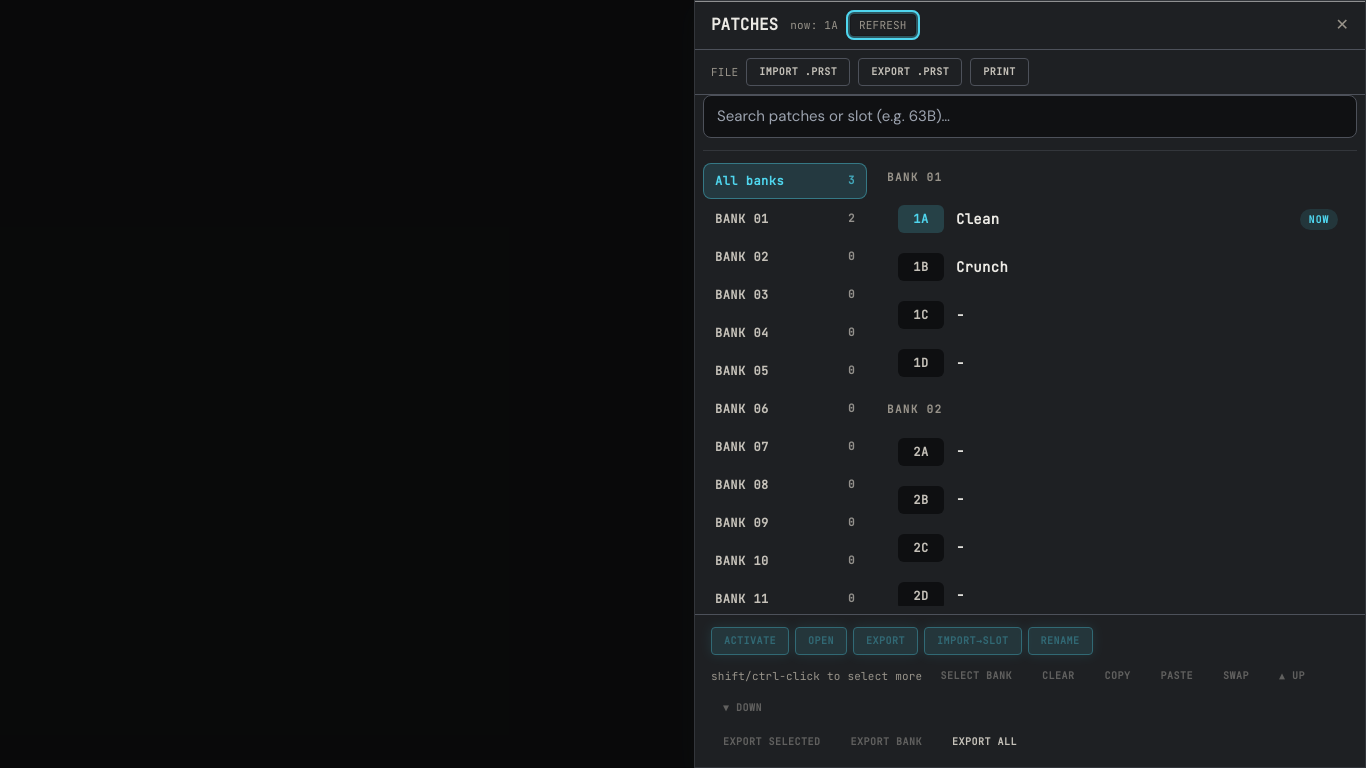
Test case: PatchManagerSheet: selection and arrange › SELECT BANK picks all four slots in the bank
Click the text "Clean". click: (978, 218)
box: [956,210,999,228]
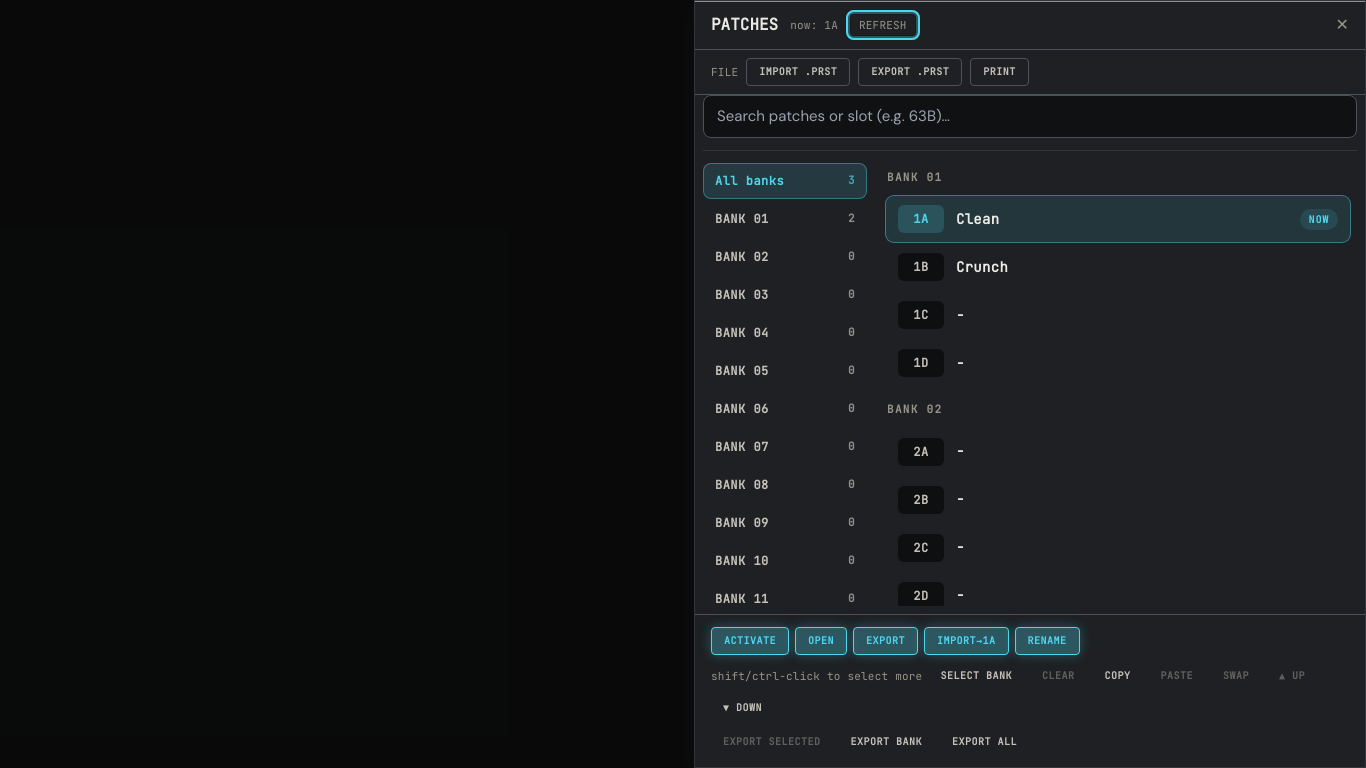
Click the button "SELECT BANK". click: (976, 676)
box: [928,663,1024,689]
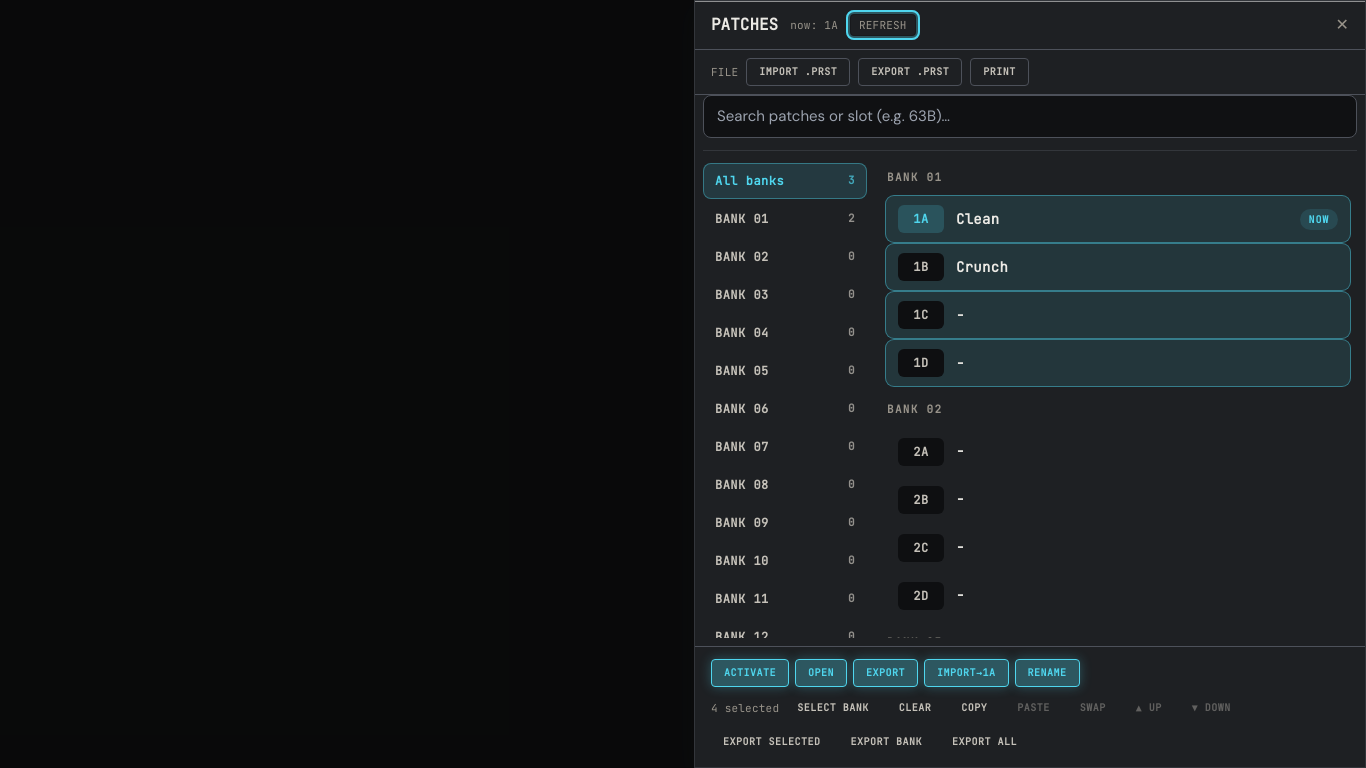
Expected: the message reads "4 selected", [711,701,779,715]
